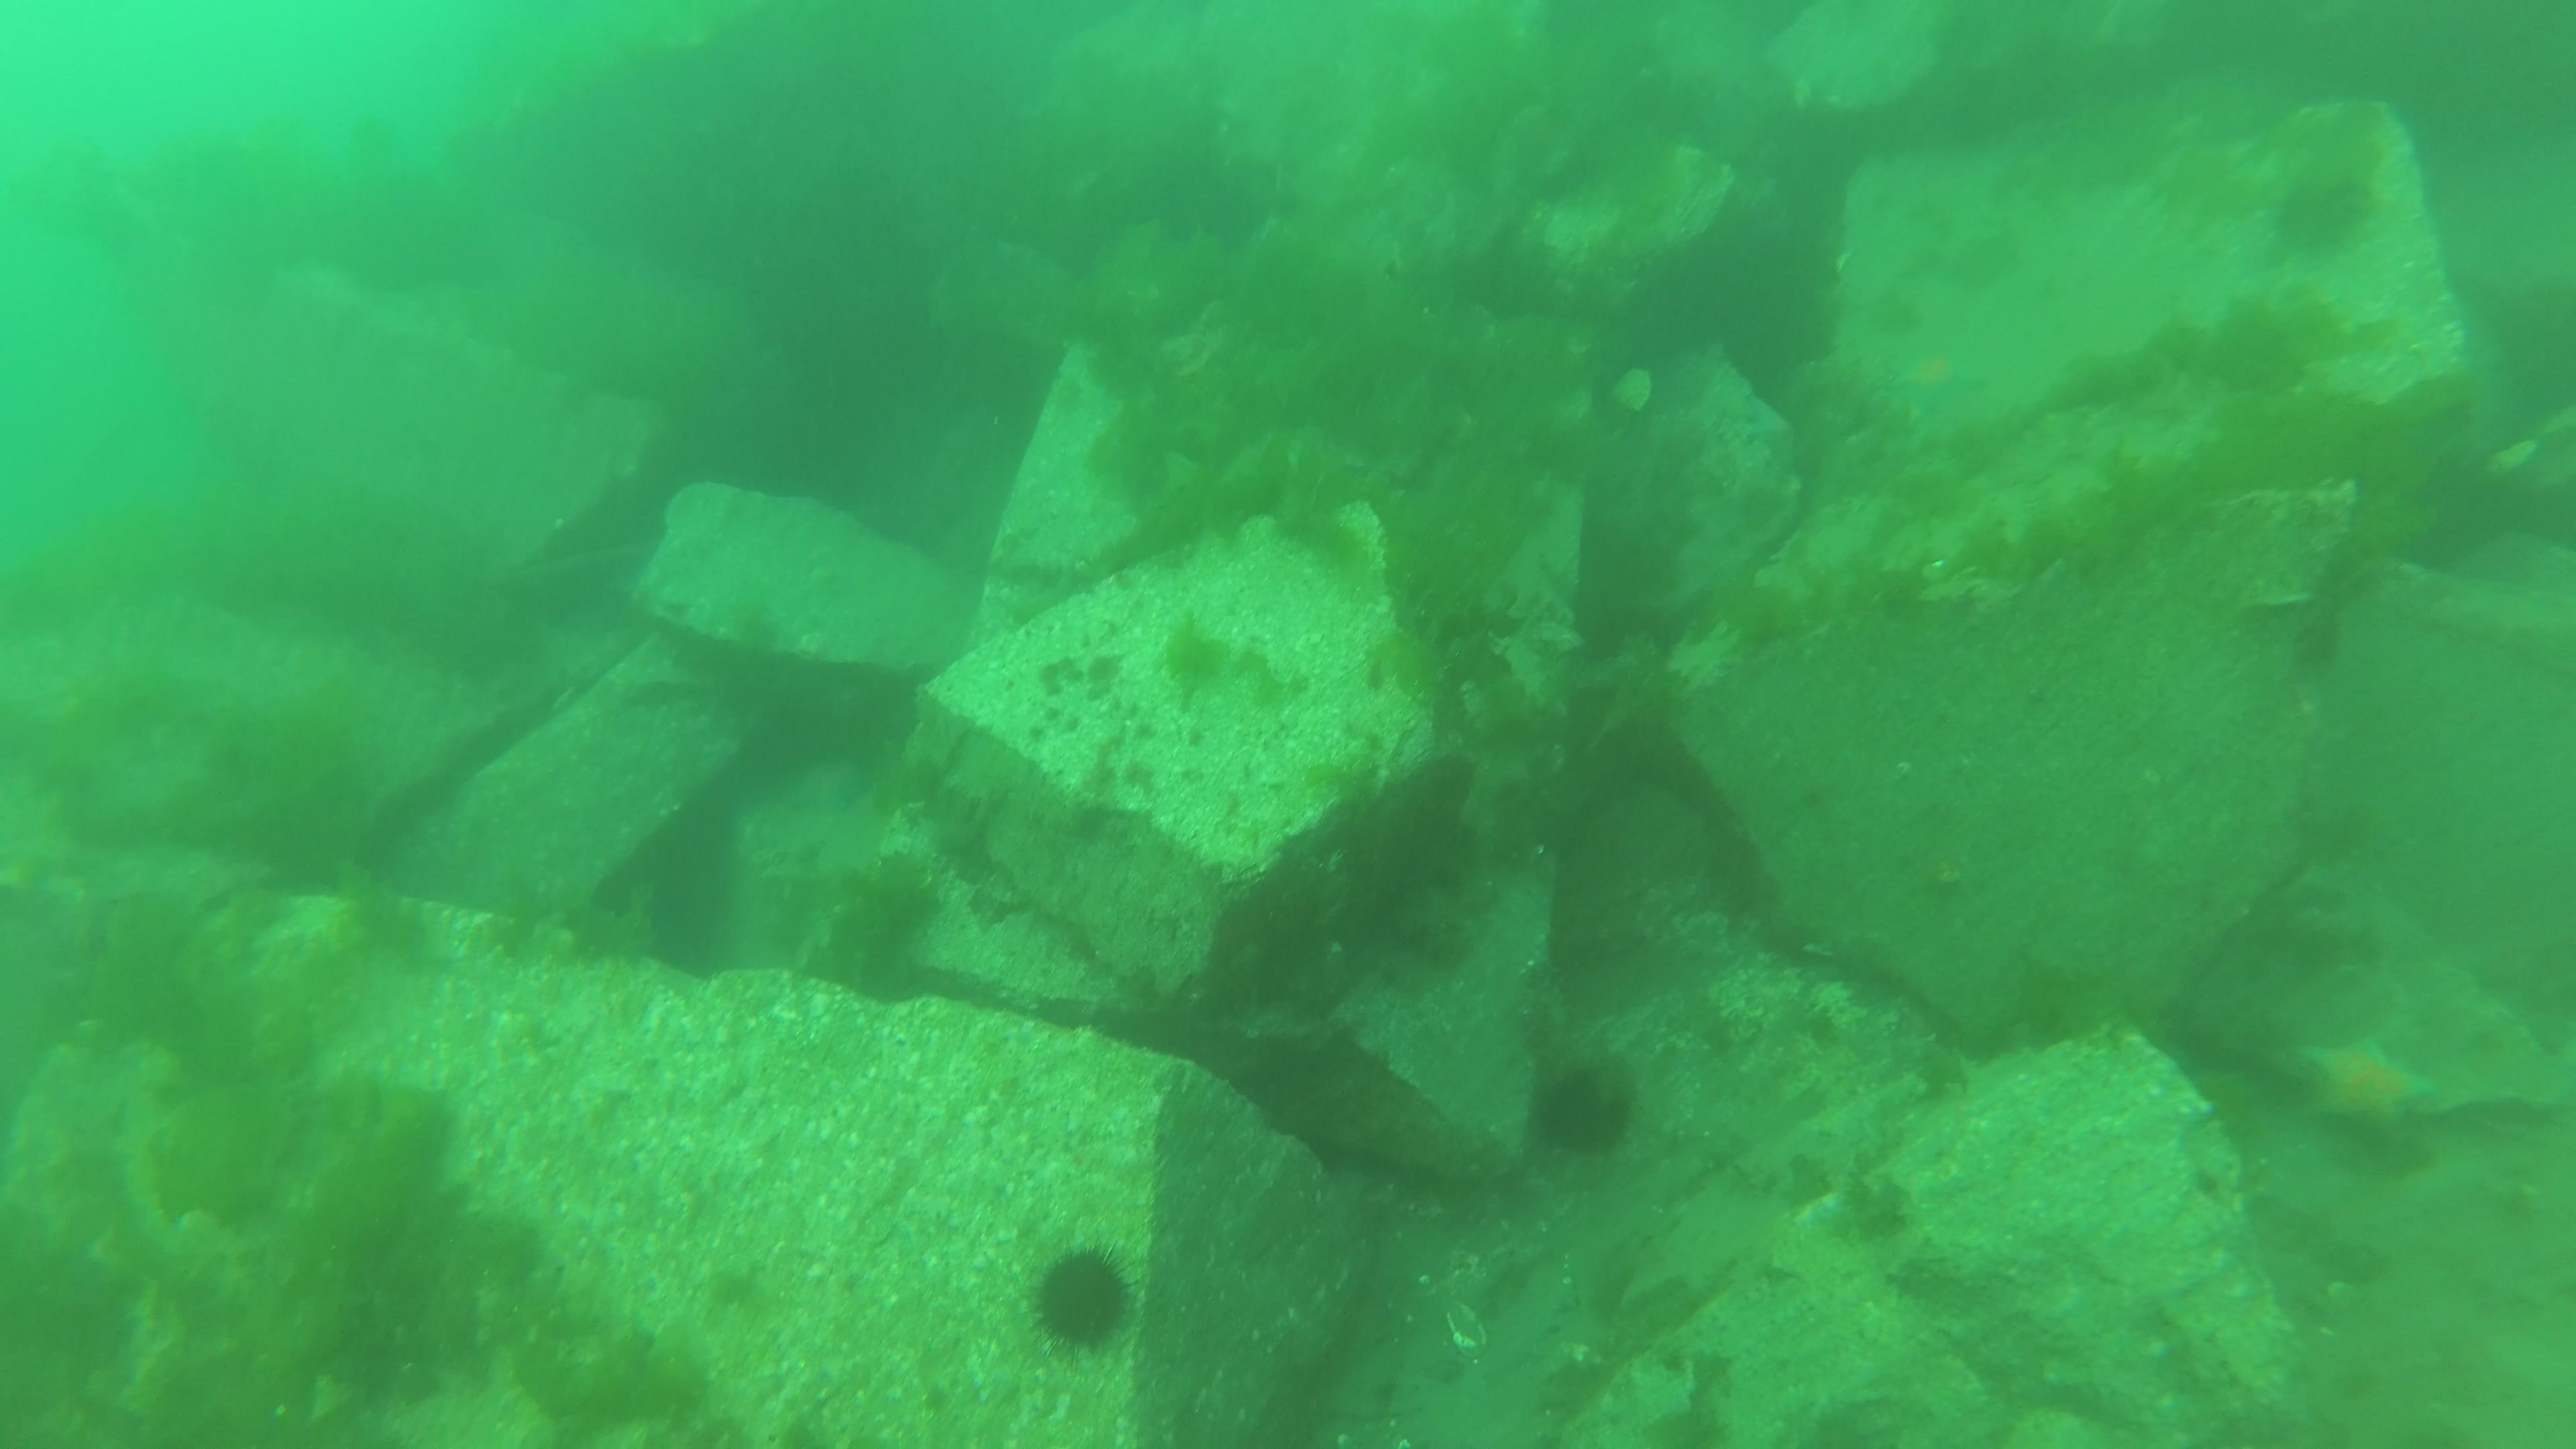echinus: (1026, 1240, 1138, 1362), (2268, 157, 2376, 262), (2410, 456, 2514, 559), (1534, 1063, 1642, 1159)
starfish: (2296, 1031, 2445, 1148), (1881, 341, 1990, 423), (791, 761, 885, 814), (1746, 387, 1801, 472)
